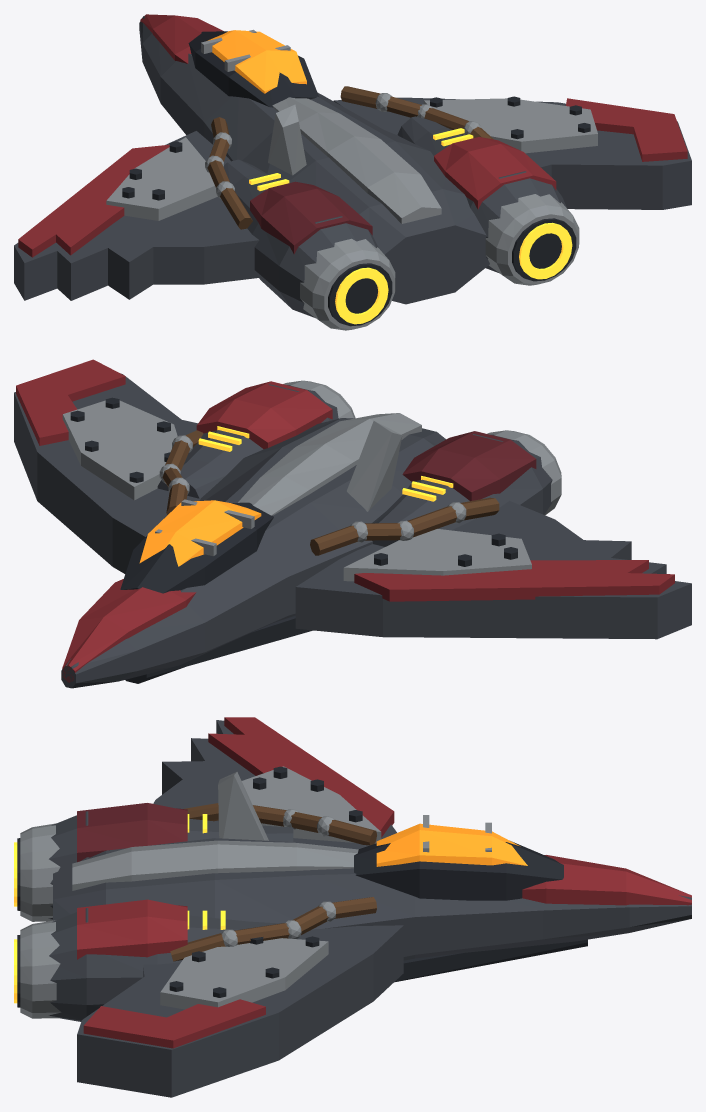
Rendered from pirate-ship.glb.
3 renders of one model, top to bottom at view 1: azimuth 30°, elevation 25°; view 2: azimuth 150°, elevation 25°; view 3: azimuth 270°, elevation 25°, orthographic. The views are drawn at different scales.
Parts seen in each view (by area): view 1: Graphite armor, Exposed forged steel, Oxide-red armor, Blackened recesses, Dark red plates, Amber drive plasma, Amber cockpit glass, Copper coolant lines; view 2: Graphite armor, Exposed forged steel, Oxide-red armor, Blackened recesses, Dark red plates, Copper coolant lines, Amber cockpit glass, Amber drive plasma; view 3: Graphite armor, Exposed forged steel, Oxide-red armor, Blackened recesses, Copper coolant lines, Dark red plates, Amber cockpit glass, Amber drive plasma.
Boxes of the visible parts, x1,y1,x2,y2 form: Graphite armor: [14, 16, 691, 317]; Exposed forged steel: [106, 29, 597, 330]; Oxide-red armor: [18, 14, 687, 257]; Blackened recesses: [122, 31, 590, 326]; Dark red plates: [250, 181, 372, 254]; Amber drive plasma: [249, 128, 572, 324]; Amber cockpit glass: [207, 30, 306, 93]; Copper coolant lines: [207, 86, 493, 229]; Graphite armor: [14, 373, 691, 688]; Exposed forged steel: [62, 380, 561, 581]; Oxide-red armor: [16, 359, 674, 682]; Blackened recesses: [70, 397, 517, 683]; Dark red plates: [402, 431, 536, 501]; Copper coolant lines: [162, 430, 499, 555]; Amber cockpit glass: [139, 500, 261, 566]; Amber drive plasma: [198, 426, 453, 501]; Graphite armor: [48, 720, 691, 1097]; Exposed forged steel: [20, 766, 491, 1018]; Oxide-red armor: [77, 717, 691, 1048]; Blackened recesses: [17, 766, 587, 1007]; Copper coolant lines: [170, 803, 376, 961]; Dark red plates: [77, 803, 187, 862]; Amber cockpit glass: [376, 823, 527, 866]; Amber drive plasma: [14, 814, 225, 1003].
Bounding box in the file's own units: 4.92 × 1.27 × 4.23.
